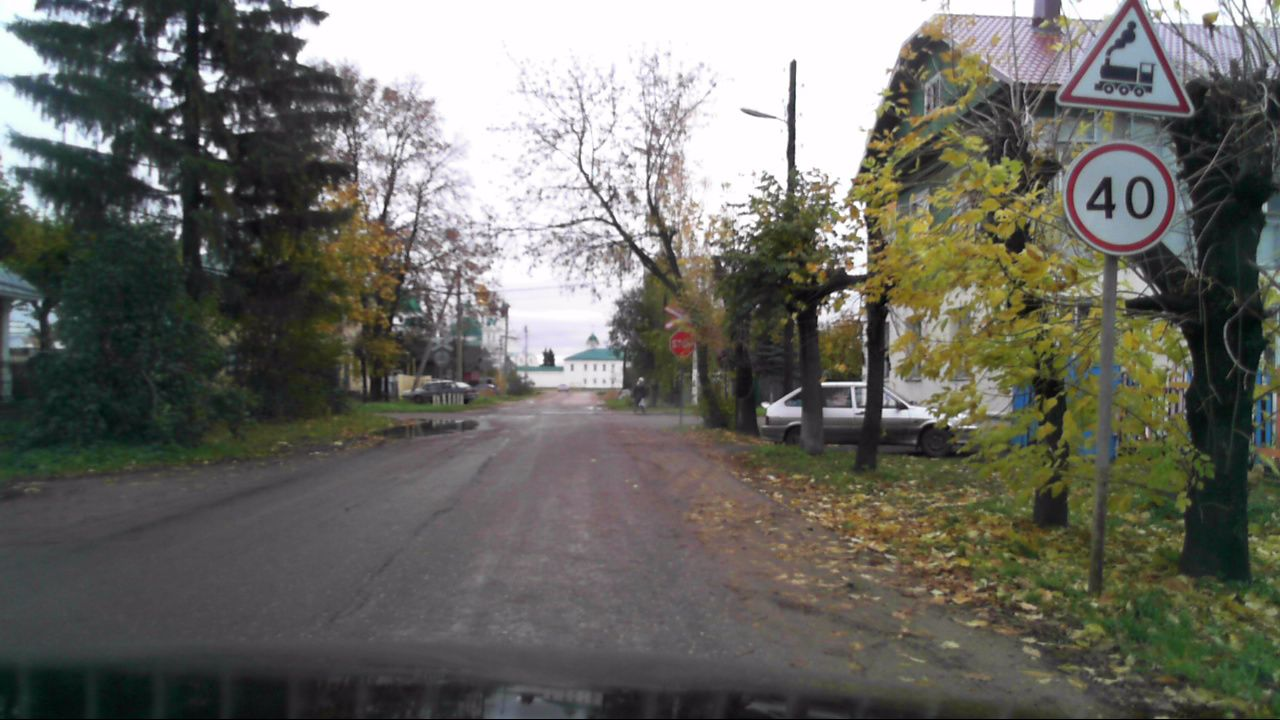speed_warning_40: (1060, 140, 1177, 260)
